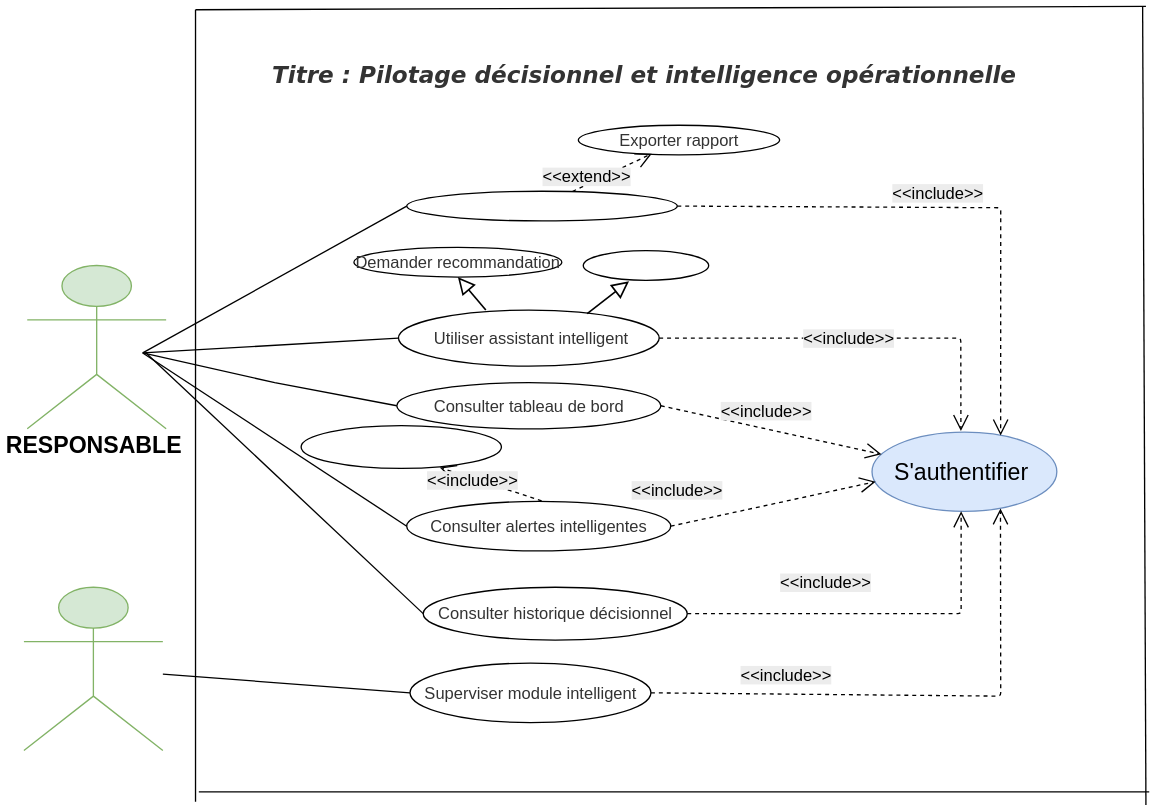
Some shapes in this 1156 by 811 pixel diagram are drawn without their labels. Here are the shapes that lost their labels. From the top down, the centre of each, then its label:
At (542,205): "Générer rapport".
At (645,265): "Poser question".
At (401,447): "Traiter alerte".
At (93,668): "Administrateur".
